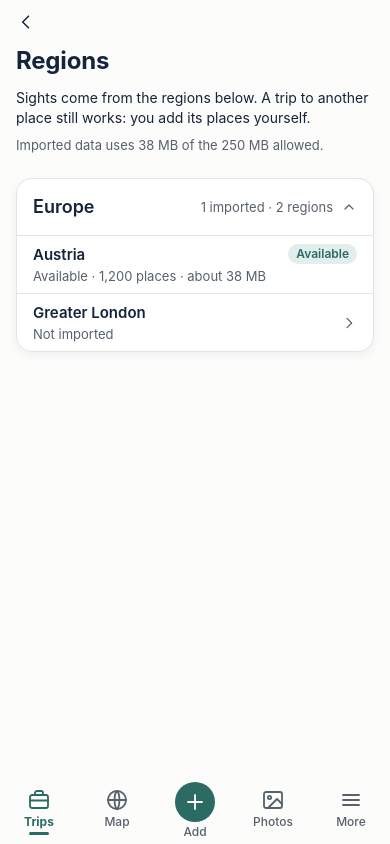
Test: importing a region asks the server and shows it as under way
The image size is (390, 844).
Click the button with test id "region-greater-london" at (89, 312), box [17, 294, 373, 351]
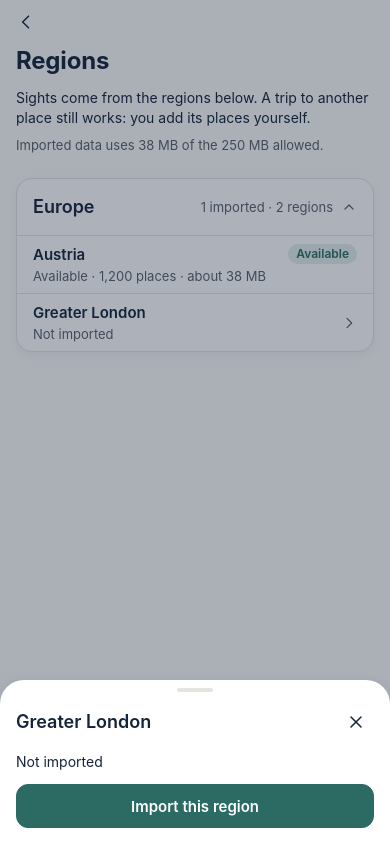
Click the button with test id "region-import" at (195, 806), box [16, 784, 374, 828]
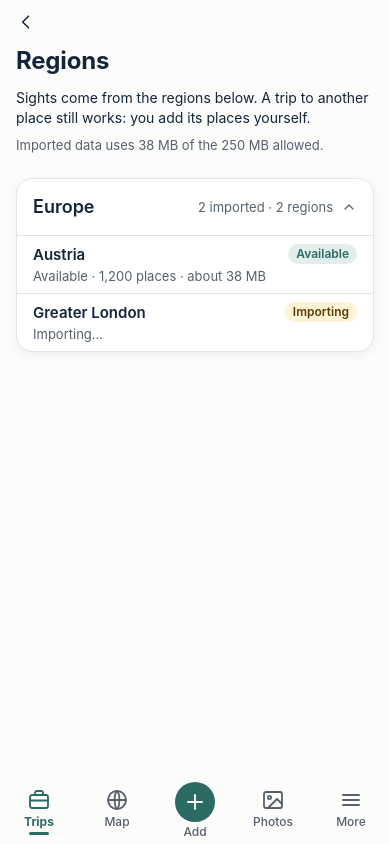
Check: the text "Importing…" is shown, box [33, 326, 103, 342]
